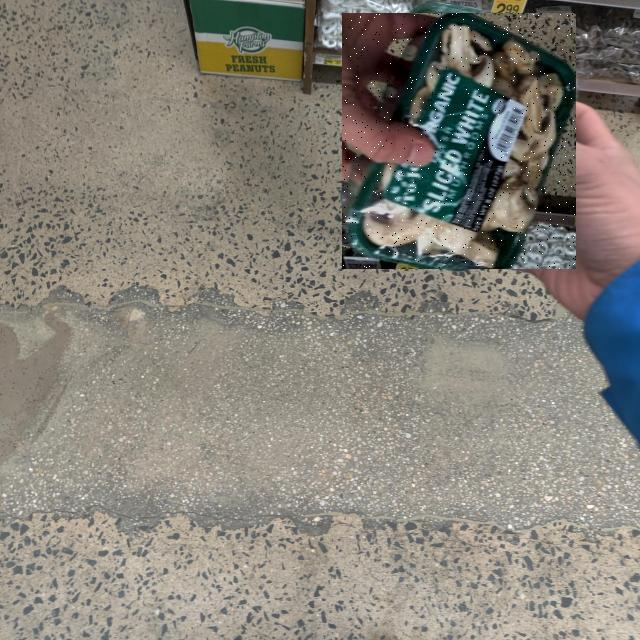Mushroom: (342, 13, 576, 269)
